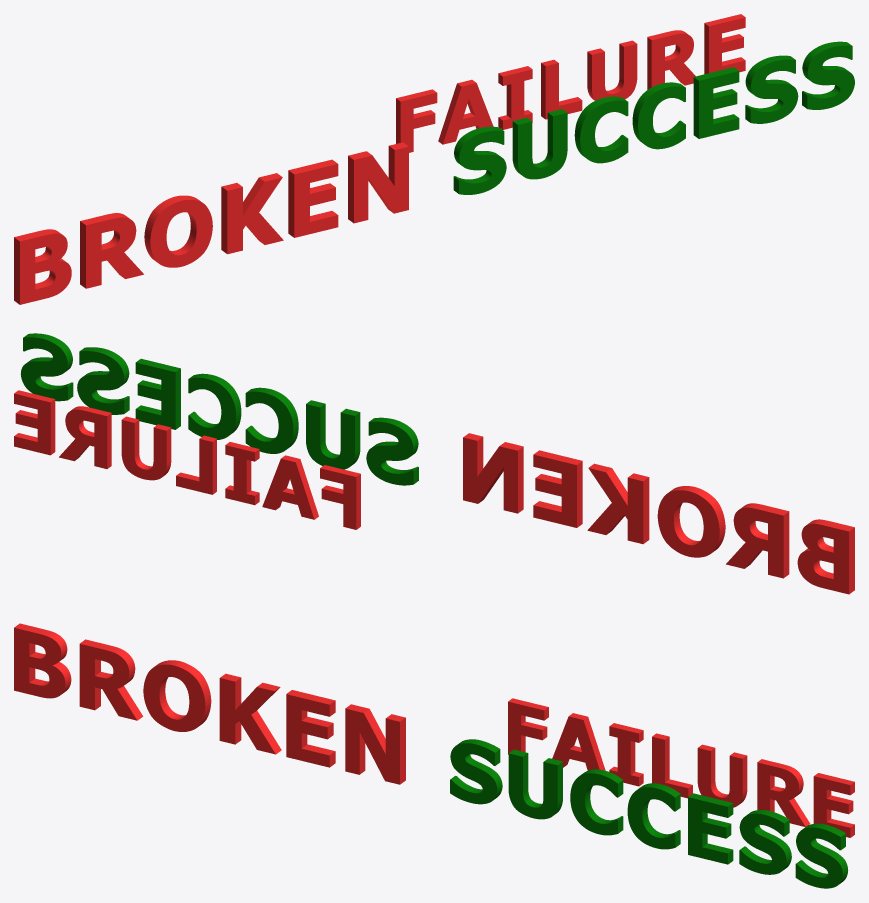
The model's file is broken.fbx.
3 views of the same model, one above another, from view 1: azimuth 30°, elevation 25°; view 2: azimuth 150°, elevation 25°; view 3: azimuth 330°, elevation 25° (orthographic).
Parts seen in each view (by area): view 1: text1, text3, text2; view 2: text1, text3, text2; view 3: text1, text3, text2.
Boxes of the visible parts, x1=… form: text1: x1=14, y1=142, x2=408, y2=304; text3: x1=453, y1=41, x2=854, y2=194; text2: x1=396, y1=14, x2=745, y2=152; text1: x1=463, y1=433, x2=854, y2=594; text3: x1=20, y1=333, x2=418, y2=485; text2: x1=14, y1=390, x2=360, y2=529; text1: x1=14, y1=623, x2=405, y2=784; text3: x1=450, y1=739, x2=848, y2=888; text2: x1=508, y1=698, x2=854, y2=837.
Size of the model in its own units: 842 by 63.64 by 110.
